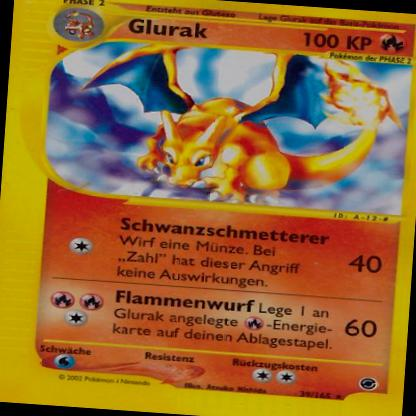Squirtle: (101, 42, 393, 213)
